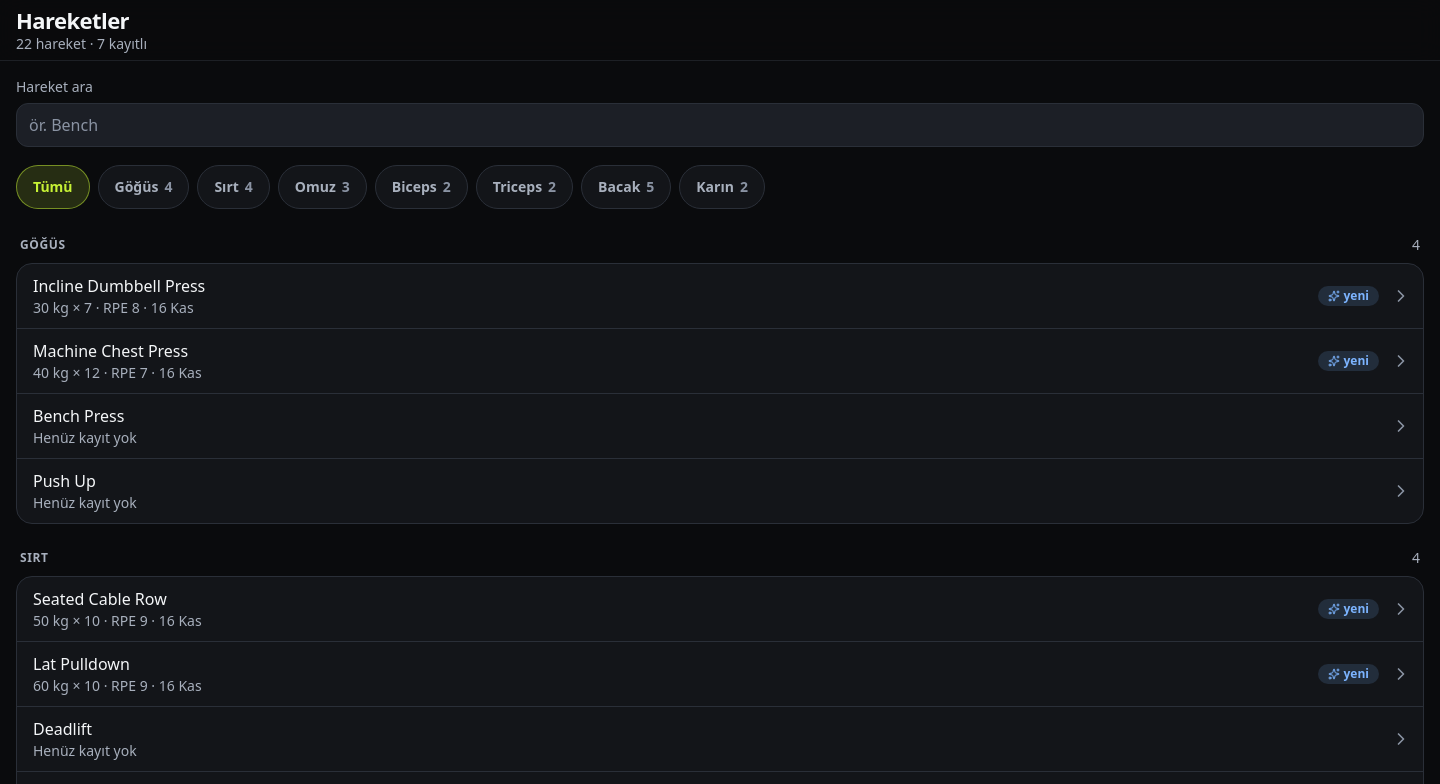
Test: ExercisesScreen › filters by search text, ignoring case
Type "BENCH" into the search field labelled "Hareket ara".
click(720, 125); type("BENCH")  # box left=16, top=103, right=1424, bottom=147
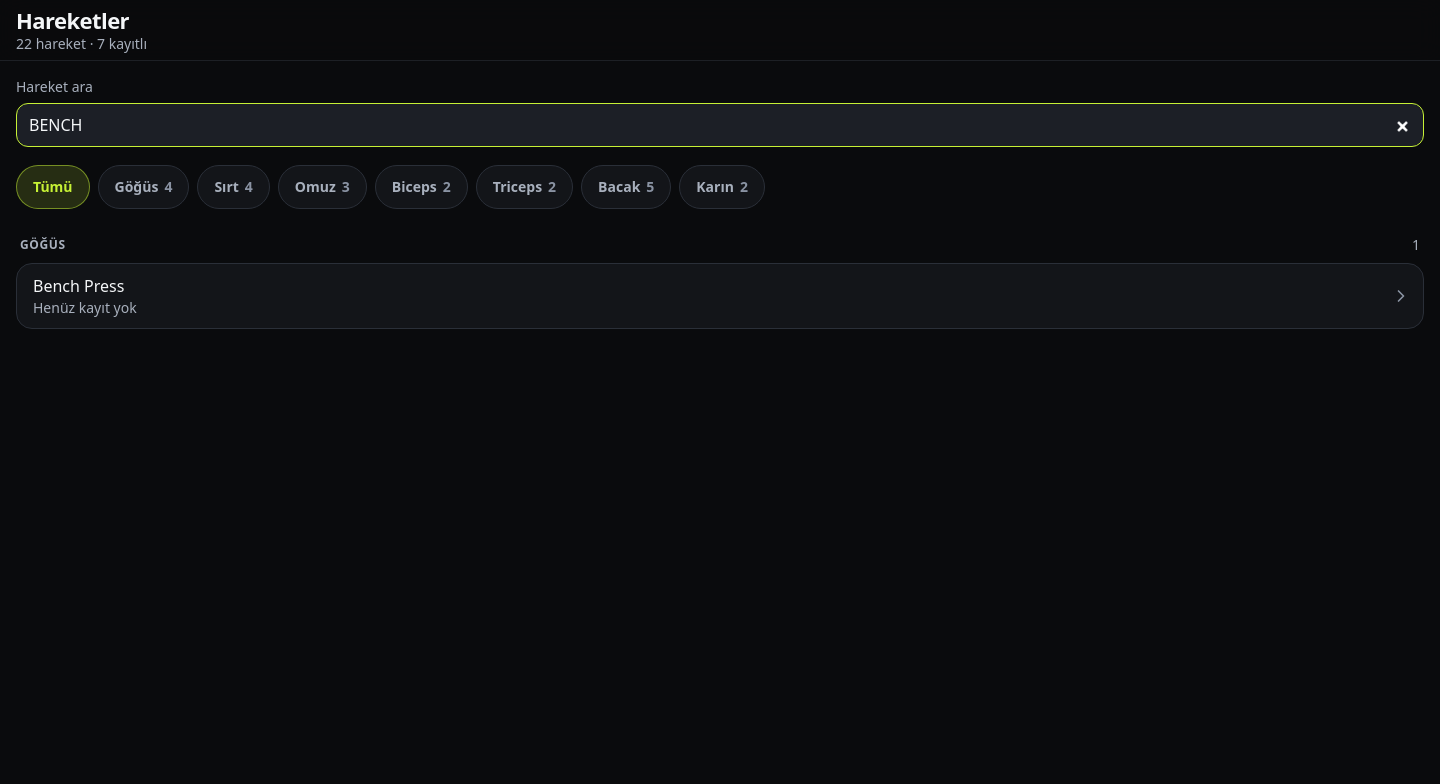
Expected: the link "Machine Chest Press" is gone
Replace the text in the search field labelled "Hareket ara" with "zzz" at (720, 125), box left=16, top=103, right=1424, bottom=147
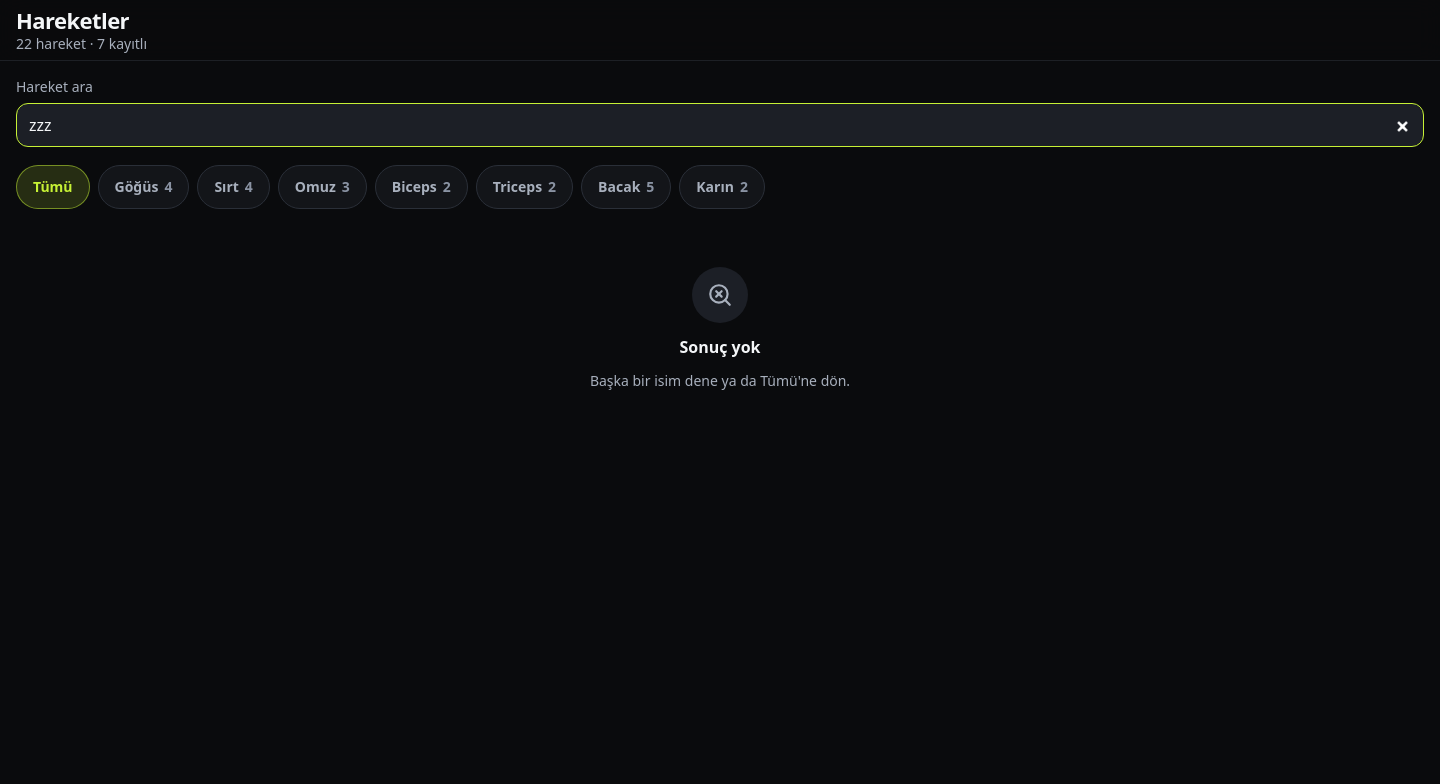
Expected: the text "Sonuç yok" is shown, left=680, top=335, right=761, bottom=359
